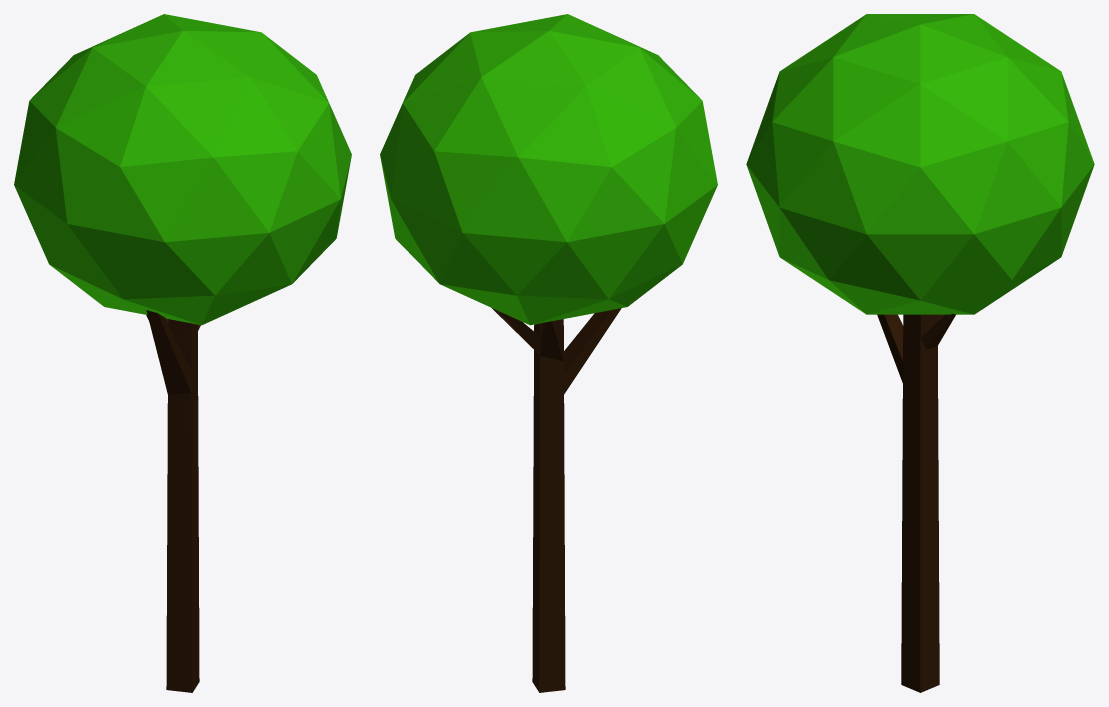
Rendered from Drzewo VI.FBX.
The picture shows the model from 3 angles, left to right: view 1: azimuth 30°, elevation 25°; view 2: azimuth 150°, elevation 25°; view 3: azimuth 270°, elevation 25°; orthographic projection.
Visible parts, largest first — view 1: tree_2, Object001; view 2: tree_2, Object001; view 3: tree_2, Object001.
Boxes of the visible parts, left/top/right/bottom form: tree_2: left=14, top=14, right=351, bottom=325; Object001: left=146, top=310, right=200, bottom=692; tree_2: left=380, top=14, right=717, bottom=325; Object001: left=492, top=308, right=621, bottom=692; tree_2: left=746, top=14, right=1094, bottom=314; Object001: left=877, top=313, right=955, bottom=692.
Size of the model in its own units: 22.48 by 49.46 by 23.64.
